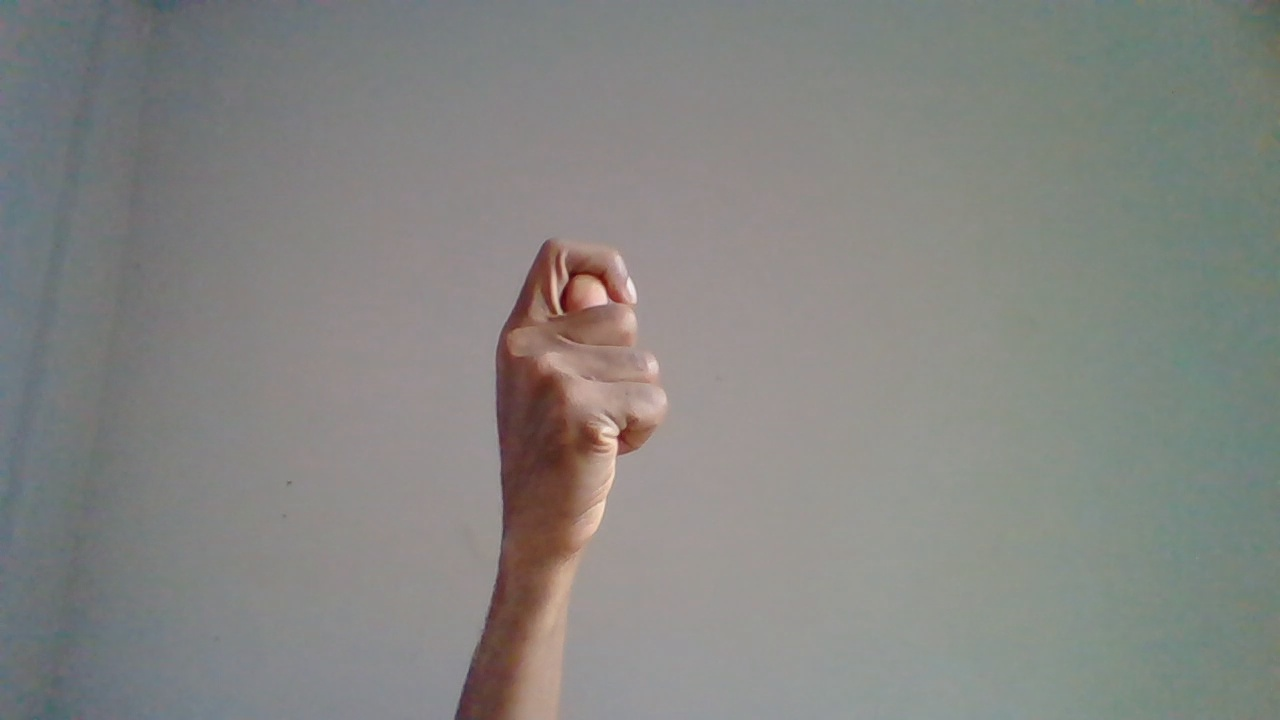che: (482, 236, 672, 689)
